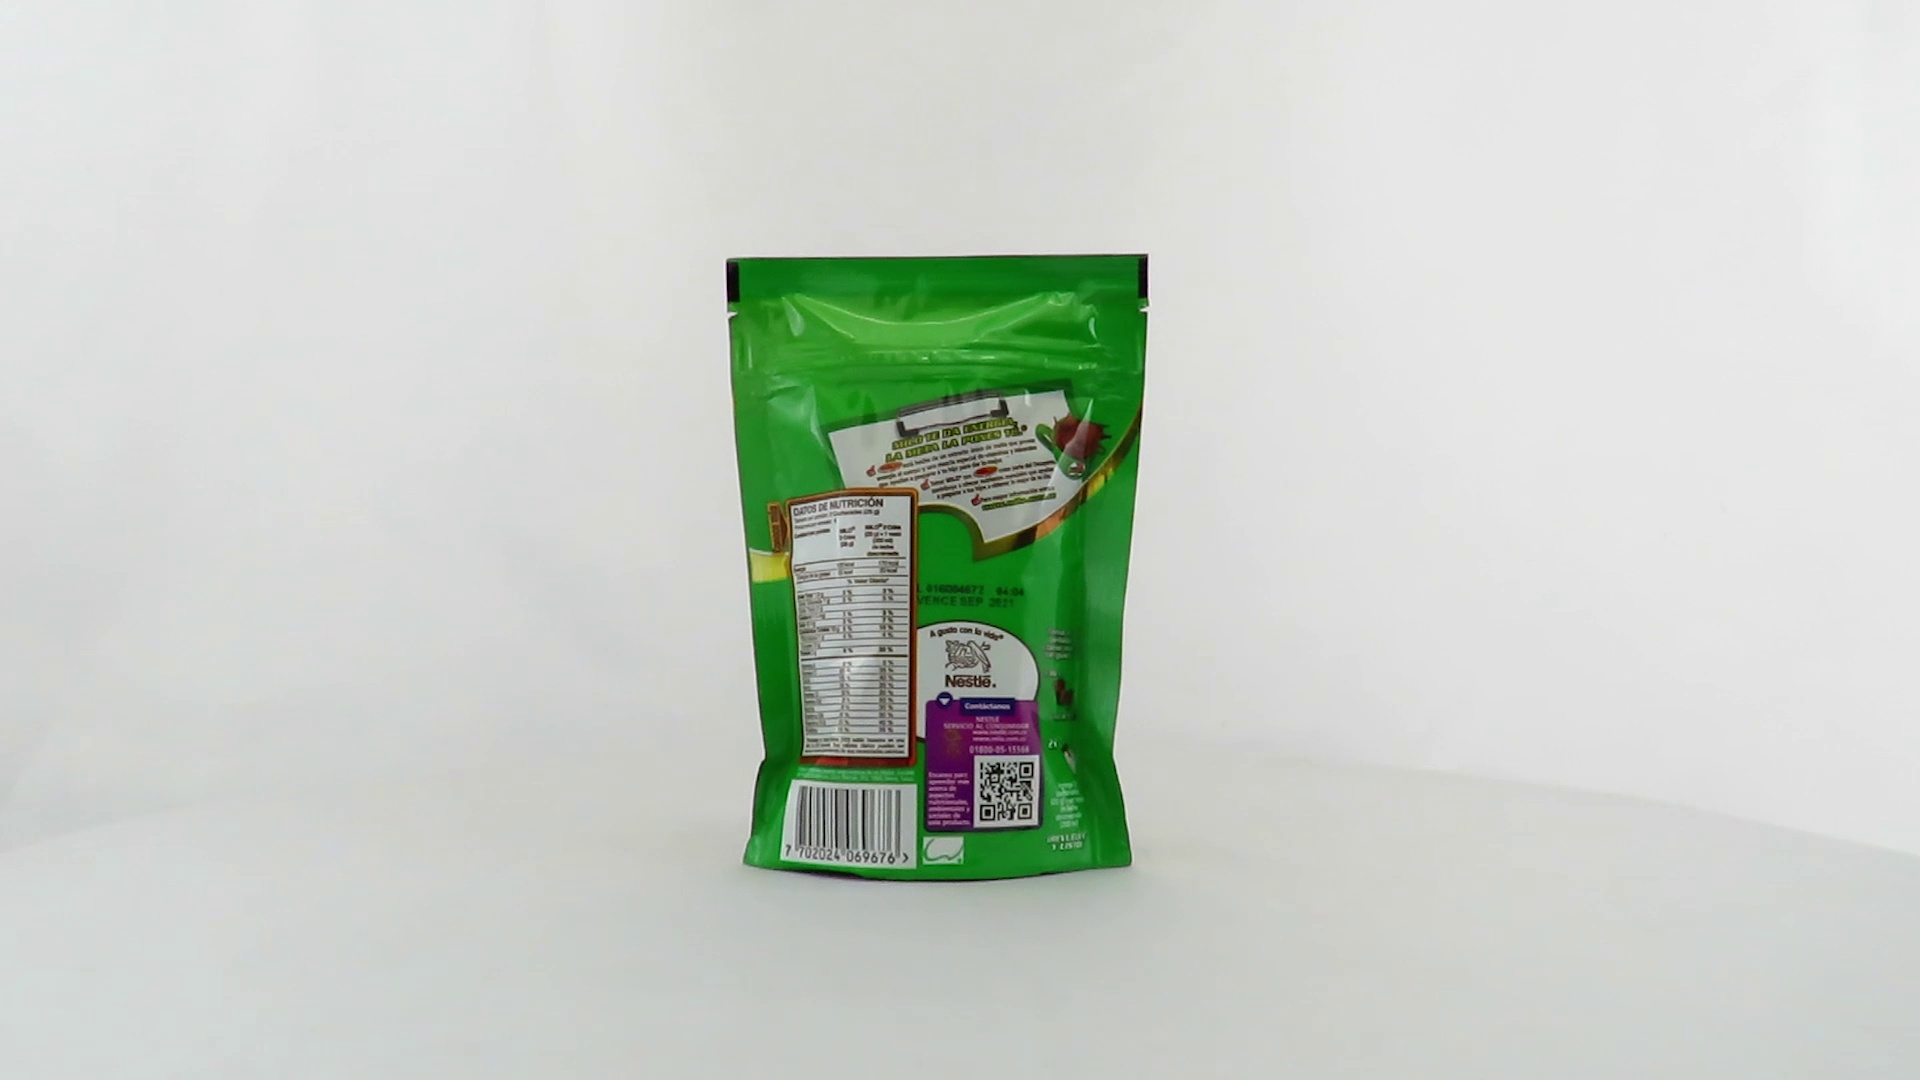COL0170203DYP10000: (721, 249, 1156, 889)
